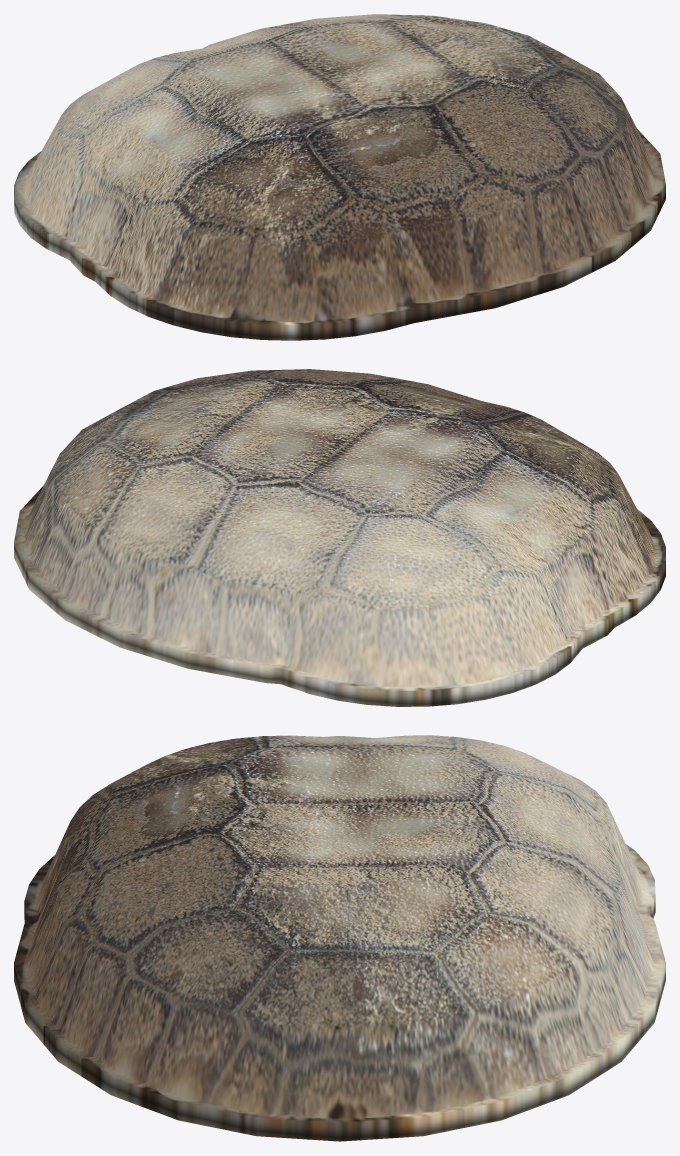
The model's file is TortiseShell.fbx.
3 renders of one model, top to bottom at view 1: azimuth 30°, elevation 25°; view 2: azimuth 150°, elevation 25°; view 3: azimuth 270°, elevation 25°, orthographic. The views are drawn at different scales.
Visible parts, largest first — view 1: Group1; view 2: Group1; view 3: Group1.
Part boxes in pixels (x1,y1,x2,y2): Group1: (14, 14, 665, 340); Group1: (14, 369, 665, 706); Group1: (14, 735, 665, 1141).
Size of the model in its own units: 0.6937 by 0.1616 by 0.5939.
